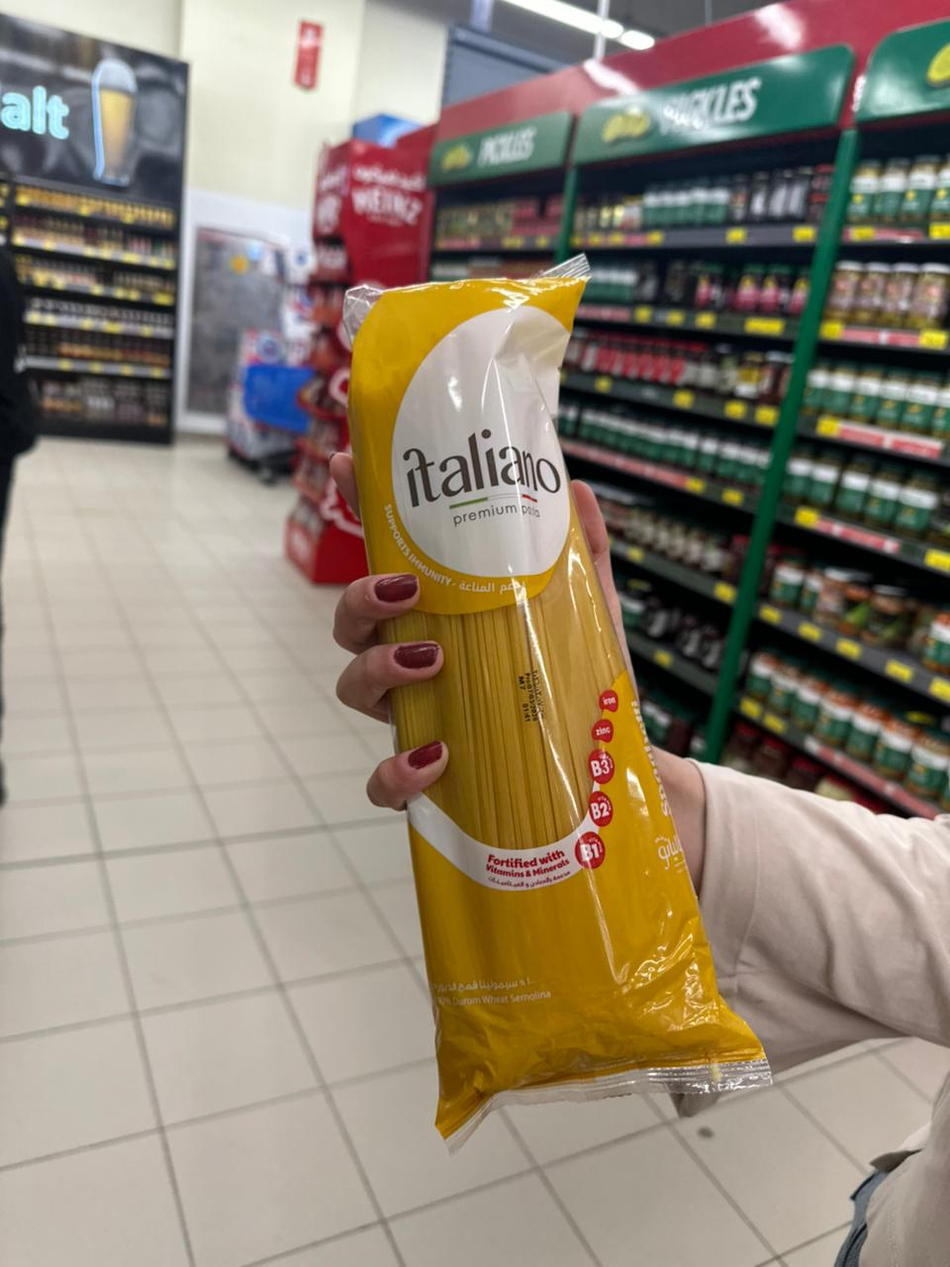spaghetti: (347, 265, 768, 1142)
